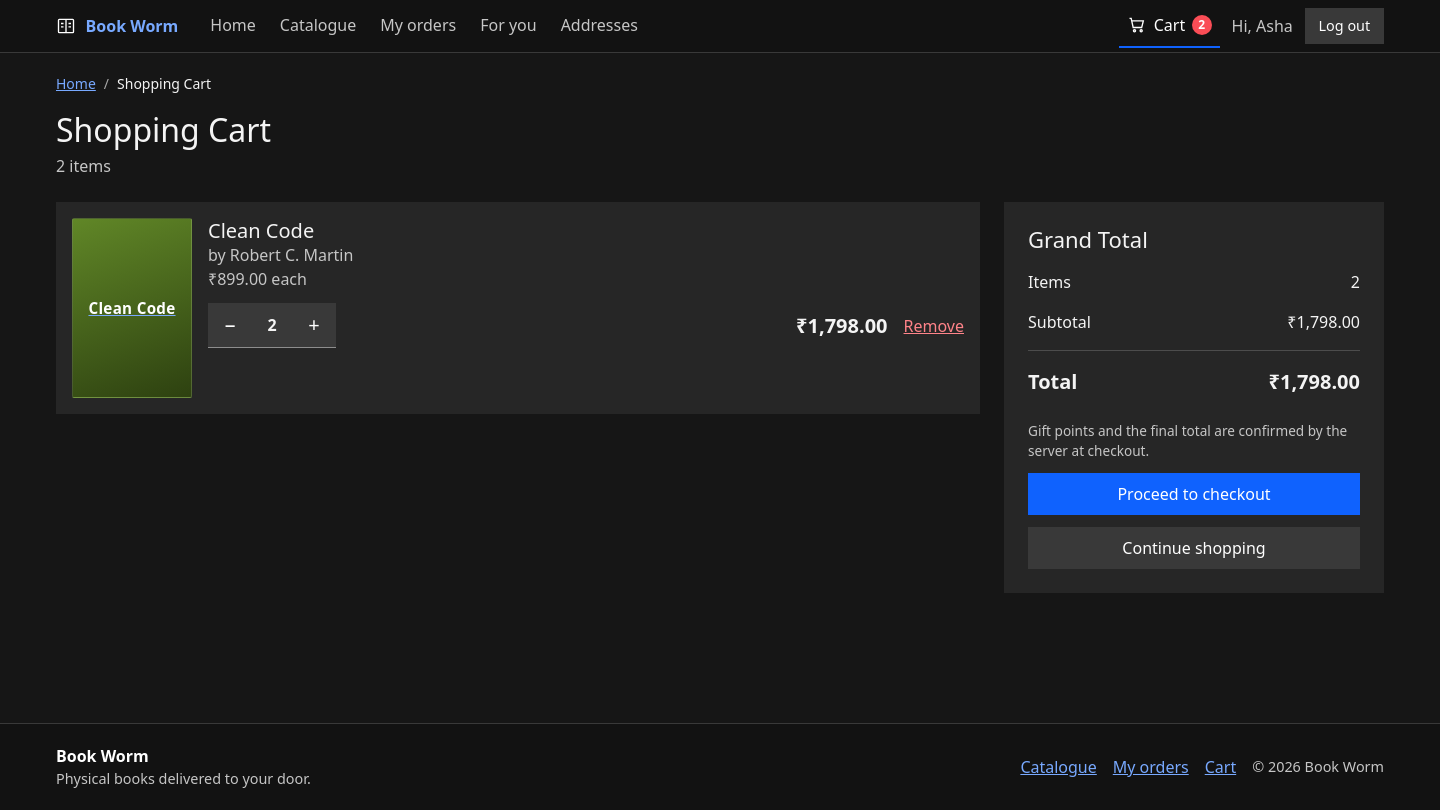
Test: Journey: managing the cart › shows server totals, updates a quantity and removes a line after confirmation
The width and height of the screenshot is (1440, 810).
Expected: the 1st link "Clean Code" is shown, left=208, top=217, right=314, bottom=244
Expected: the 1st text "₹1,798.00" is shown, left=796, top=310, right=888, bottom=340
Click the button named "Increase quantity of Clean Code" at {"x": 314, "y": 325}, box left=292, top=303, right=336, bottom=347
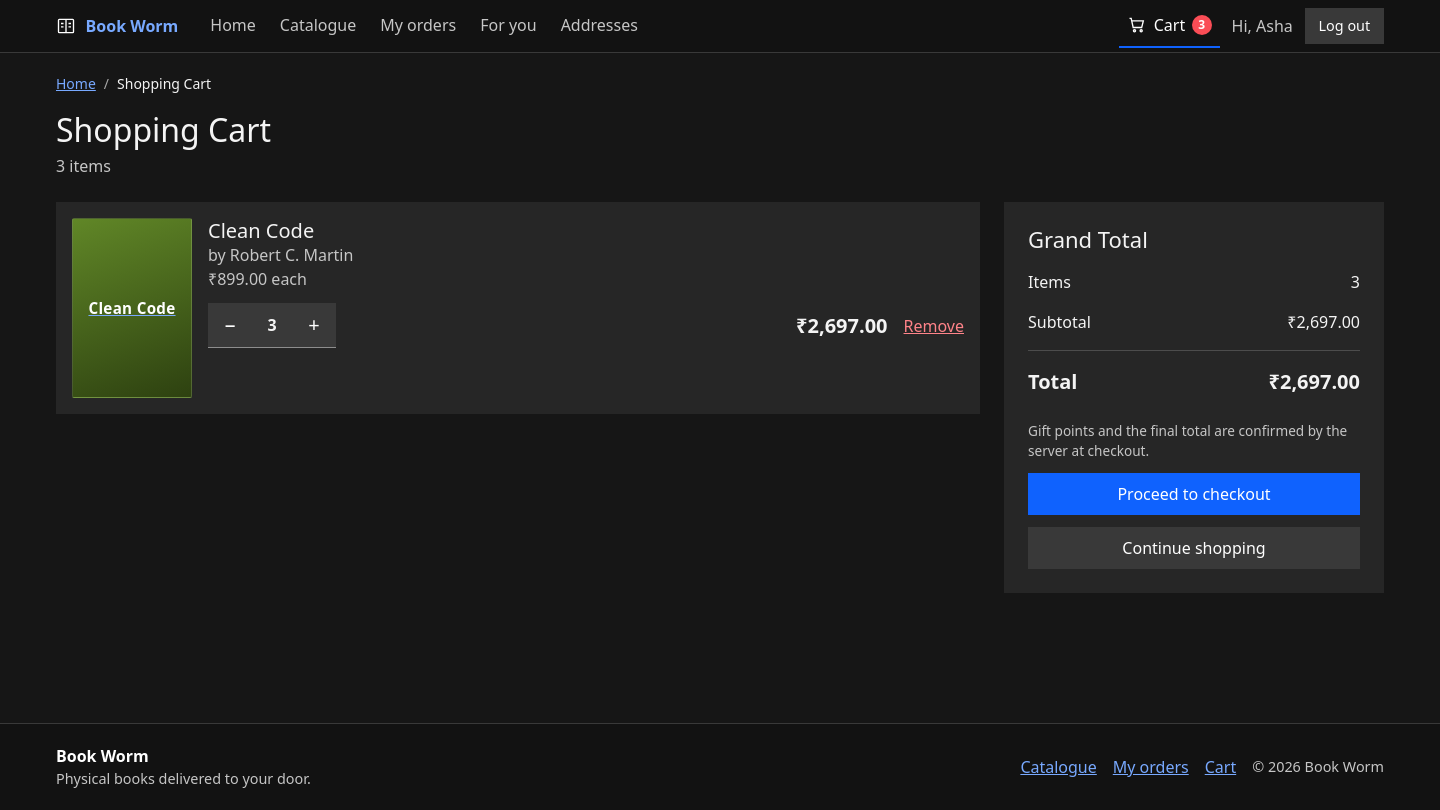
Result: the 1st text "₹2,697.00" is shown at left=796, top=310, right=888, bottom=340
Click the button with aria-label "Remove Clean Code from cart" at {"x": 934, "y": 326}, box left=904, top=308, right=964, bottom=344
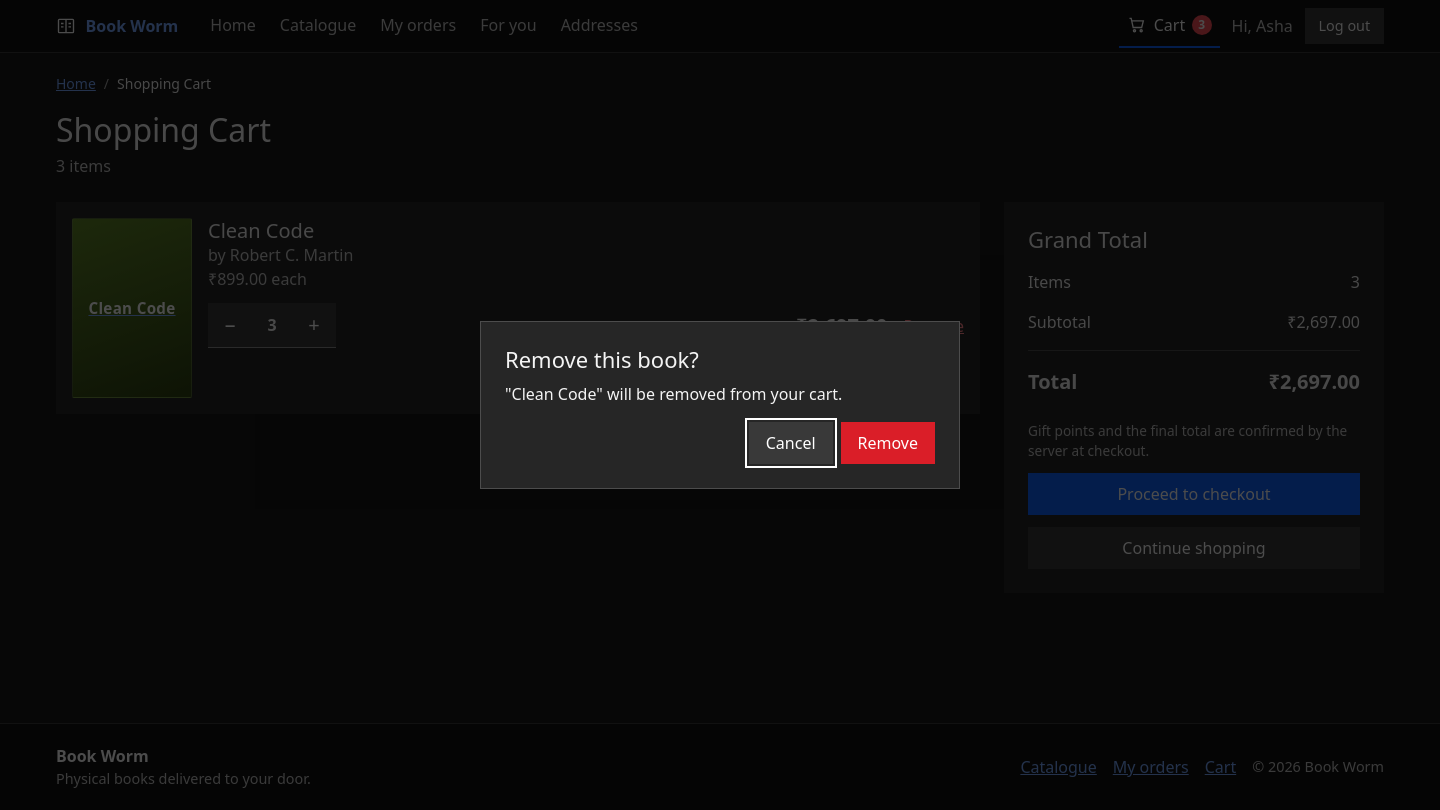
Click the button "Remove" at {"x": 888, "y": 443}, box left=840, top=422, right=935, bottom=464
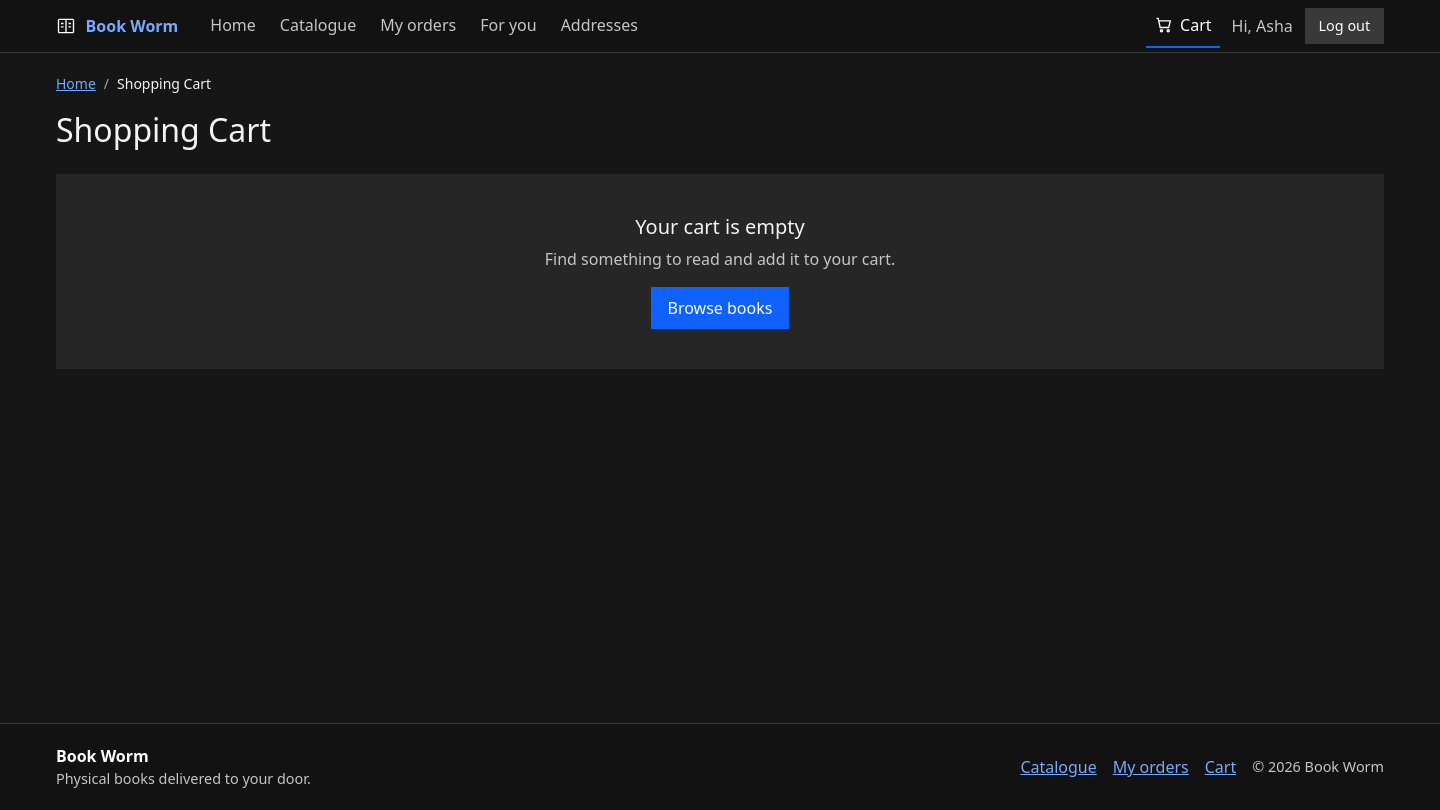
Result: the heading "Your cart is empty" is shown at left=635, top=213, right=805, bottom=240
